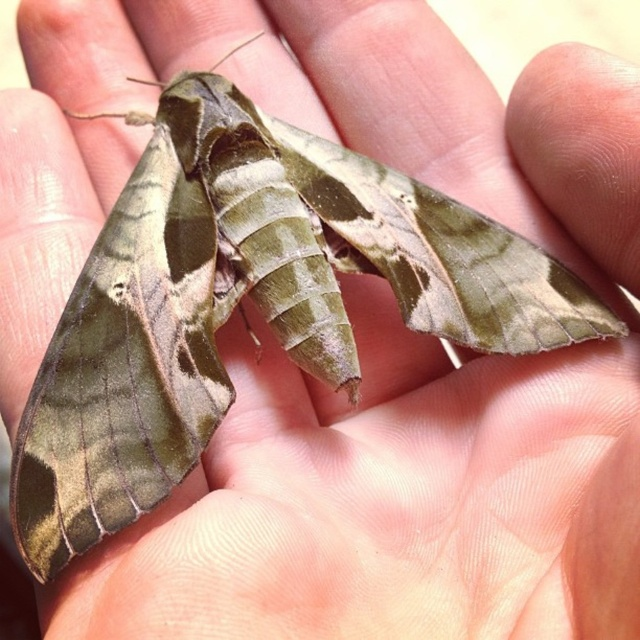Moths and butterflies: (7, 29, 629, 588)
